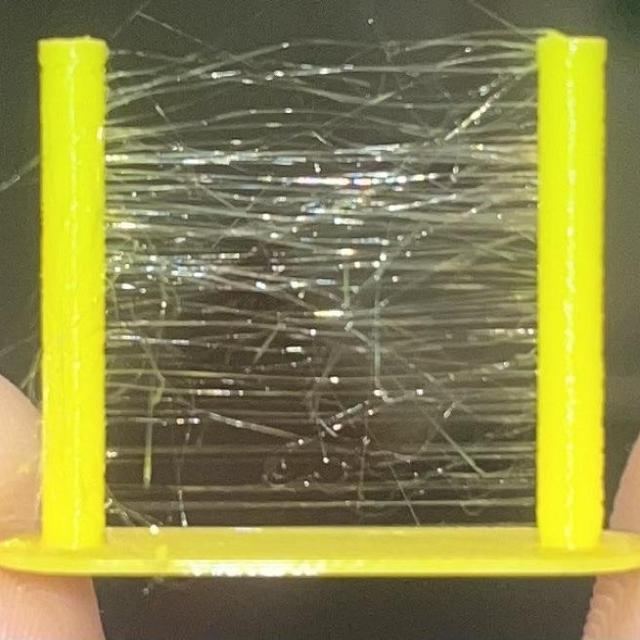stringing: (109, 44, 322, 197), (300, 368, 531, 509), (104, 200, 296, 364), (339, 46, 534, 205), (333, 208, 523, 371), (111, 363, 284, 517)
